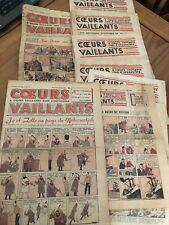paper: (1, 0, 169, 224)
